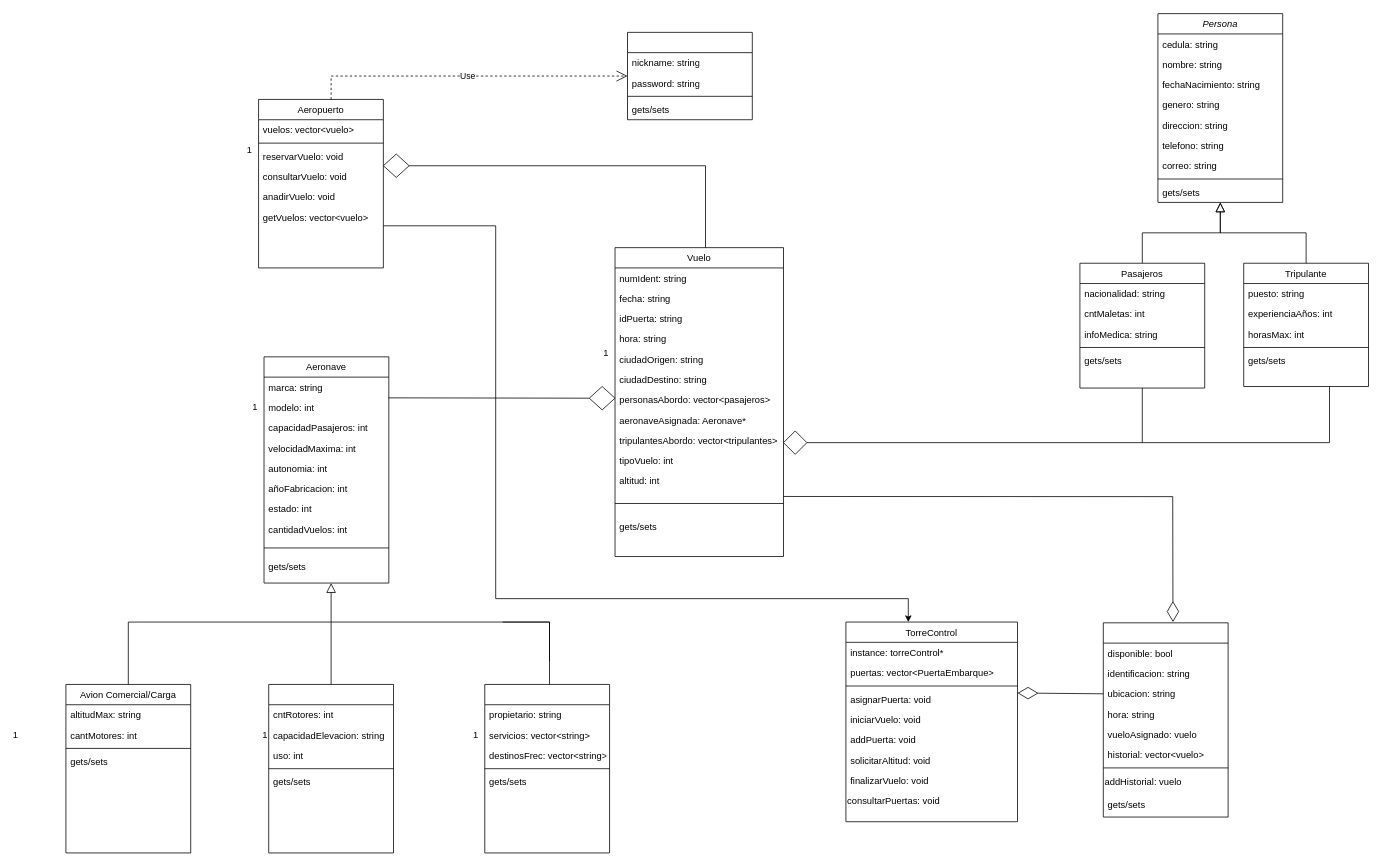
Image size: 1383x867. Some labels were removed from this diagram. Each missing label, with the box of its shape:
Helicoptero: (268, 684, 394, 853)
Jets: (484, 684, 610, 853)
PuertaEmbarque: (1103, 622, 1228, 817)
Usuario: (627, 32, 752, 120)
